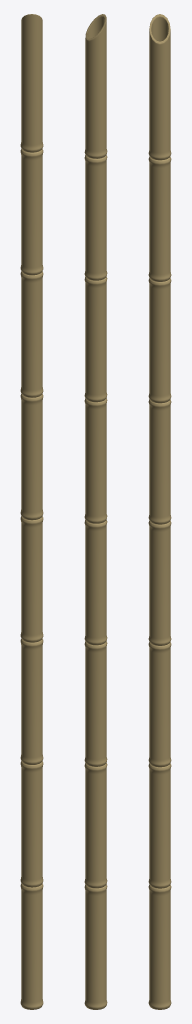
Rendered from BambooChute.fbx.
The picture shows the model from 3 angles, left to right: view 1: azimuth 90°, elevation 25°; view 2: azimuth 210°, elevation 25°; view 3: azimuth 270°, elevation 25°; orthographic projection.
Visible parts, largest first — view 1: BambooEnd; view 2: BambooEnd; view 3: BambooEnd.
Boxes of the visible parts, bbox=[...] form: BambooEnd: bbox=[20, 14, 43, 1009]; BambooEnd: bbox=[84, 14, 107, 1009]; BambooEnd: bbox=[148, 14, 171, 1009].
Size of the model in its own units: 35.68 by 1704 by 35.57.
